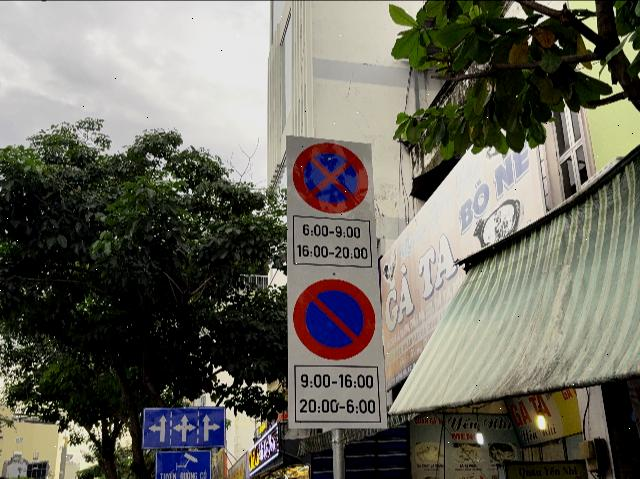cam-do-xe: (294, 278, 376, 361)
cam-dung-va-do-xe: (293, 143, 369, 213)
